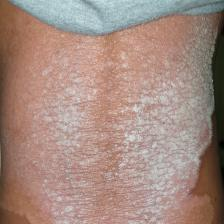Psoriasis vulgaris: (5, 34, 112, 224), (119, 29, 220, 221)
